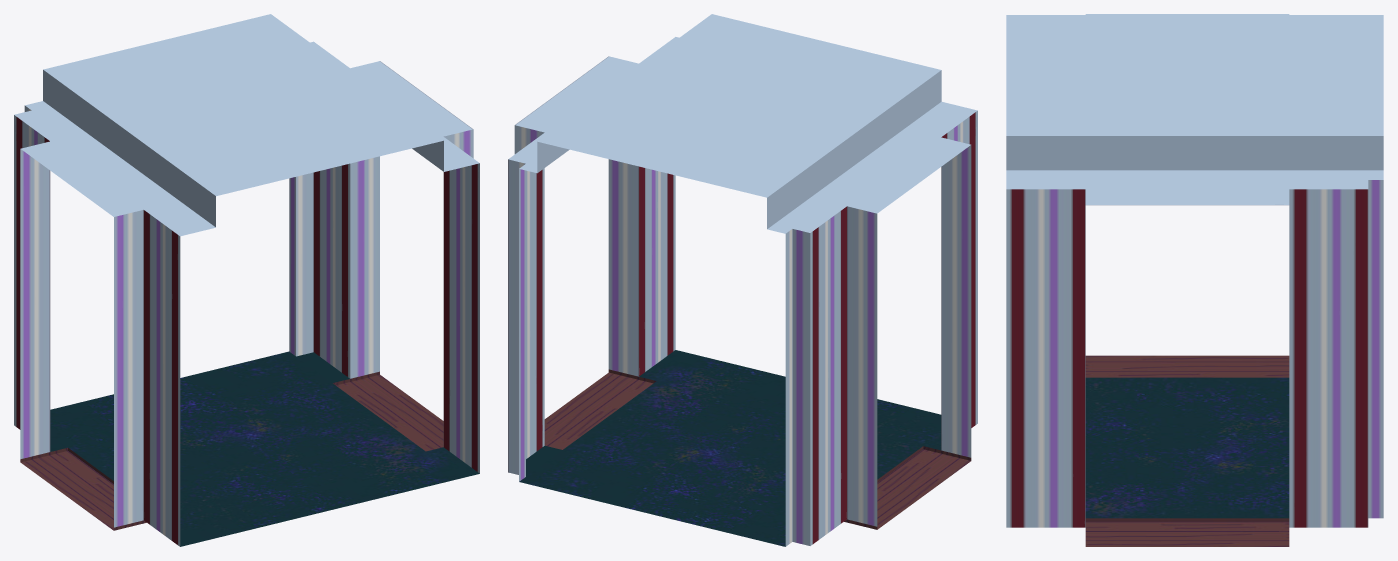
File: Hall__Small_DoorColumn.fbx
3 views of the same model, side by side, from view 1: azimuth 30°, elevation 25°; view 2: azimuth 150°, elevation 25°; view 3: azimuth 270°, elevation 25° (orthographic). The views are drawn at different scales.
Visible parts, largest first — view 1: Hall__Small_DoorColumn; view 2: Hall__Small_DoorColumn; view 3: Hall__Small_DoorColumn.
Boxes of the visible parts, x1,y1,x2,y2 form: Hall__Small_DoorColumn: [14, 14, 479, 546]; Hall__Small_DoorColumn: [508, 14, 977, 546]; Hall__Small_DoorColumn: [1006, 14, 1383, 546].
Size of the model in its own units: 240 by 220 by 200.
2 materials, 2 textured.
